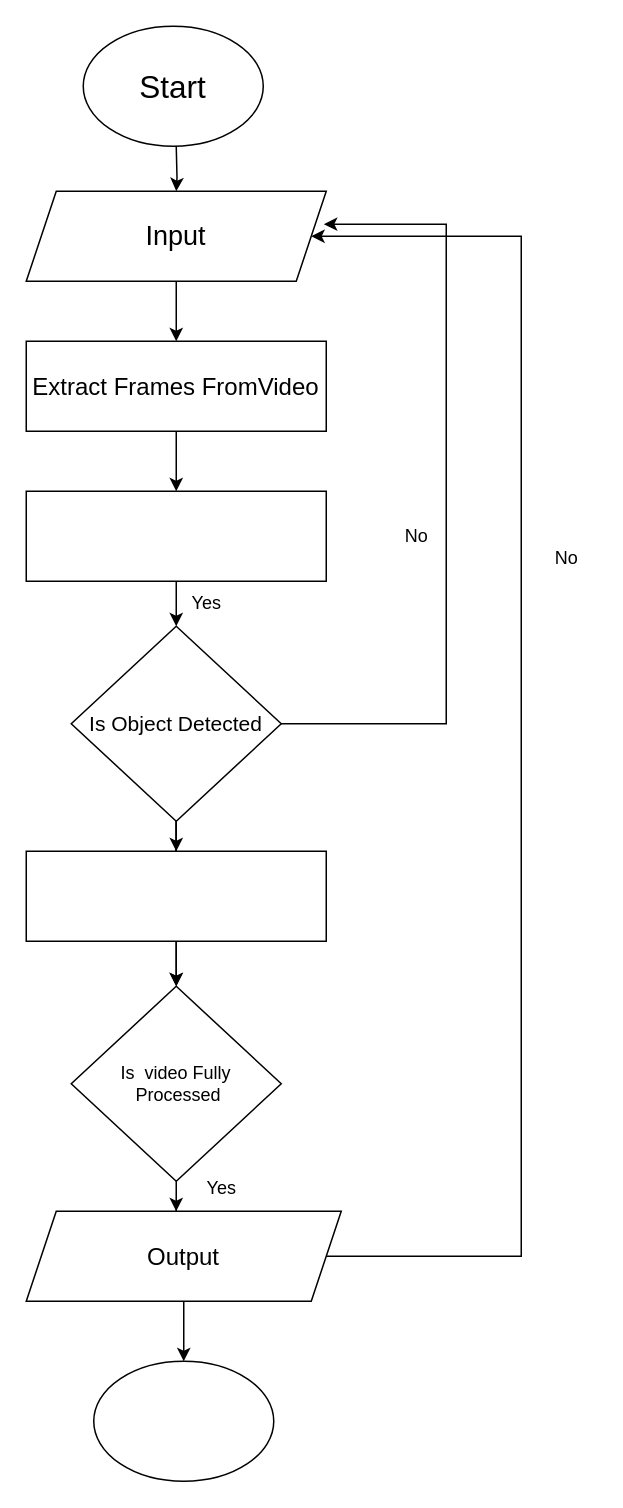
Some shapes in this 623 by 1508 pixel diagram are drawn without their labels. Each missing label, with the centre of its shape:
"En d" belongs at point (183, 1420).
"Object detection on frame" belongs at point (175, 535).
"Object Tracking By Sort Module" belongs at point (175, 895).
